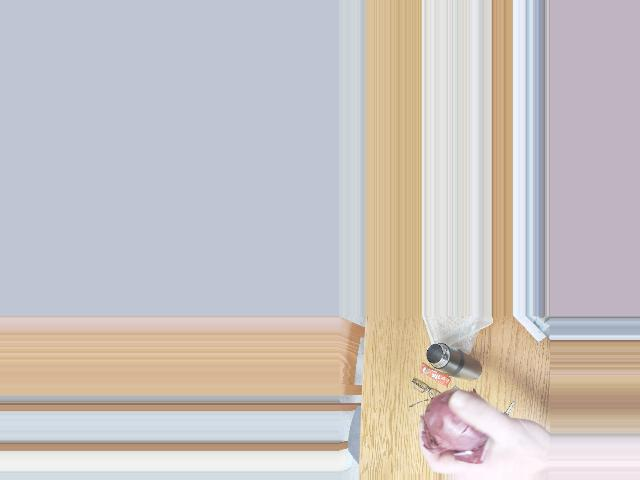onion: (427, 399, 493, 456)
